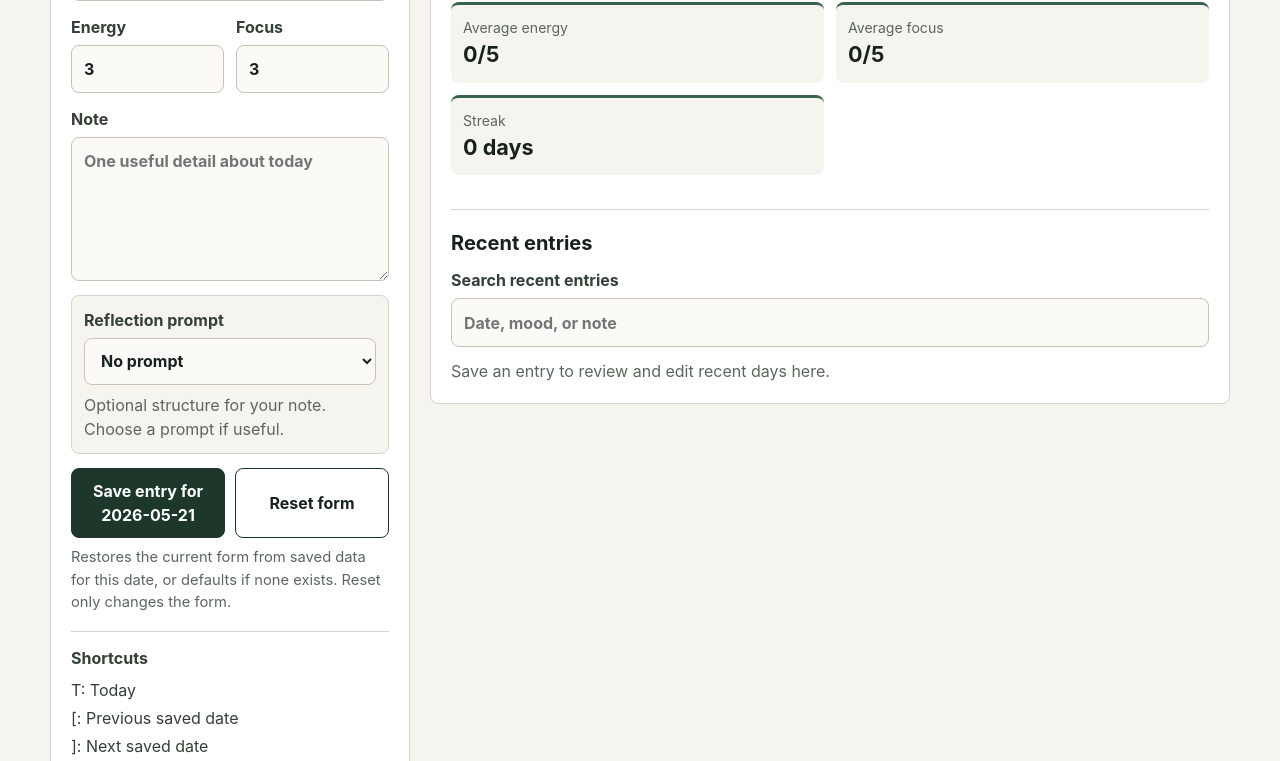
Test case: App › shows optional note prompts and displays the selected prompt text
The width and height of the screenshot is (1280, 761).
(page scrolled)
Expected: the text "Optional structure for your note. Choose a prompt if useful." is shown, [84,395,326,439]
Step 1. Select "Focus support" in the dropdown labelled "Reflection prompt" → point(230, 362), box [84,338,376,385]
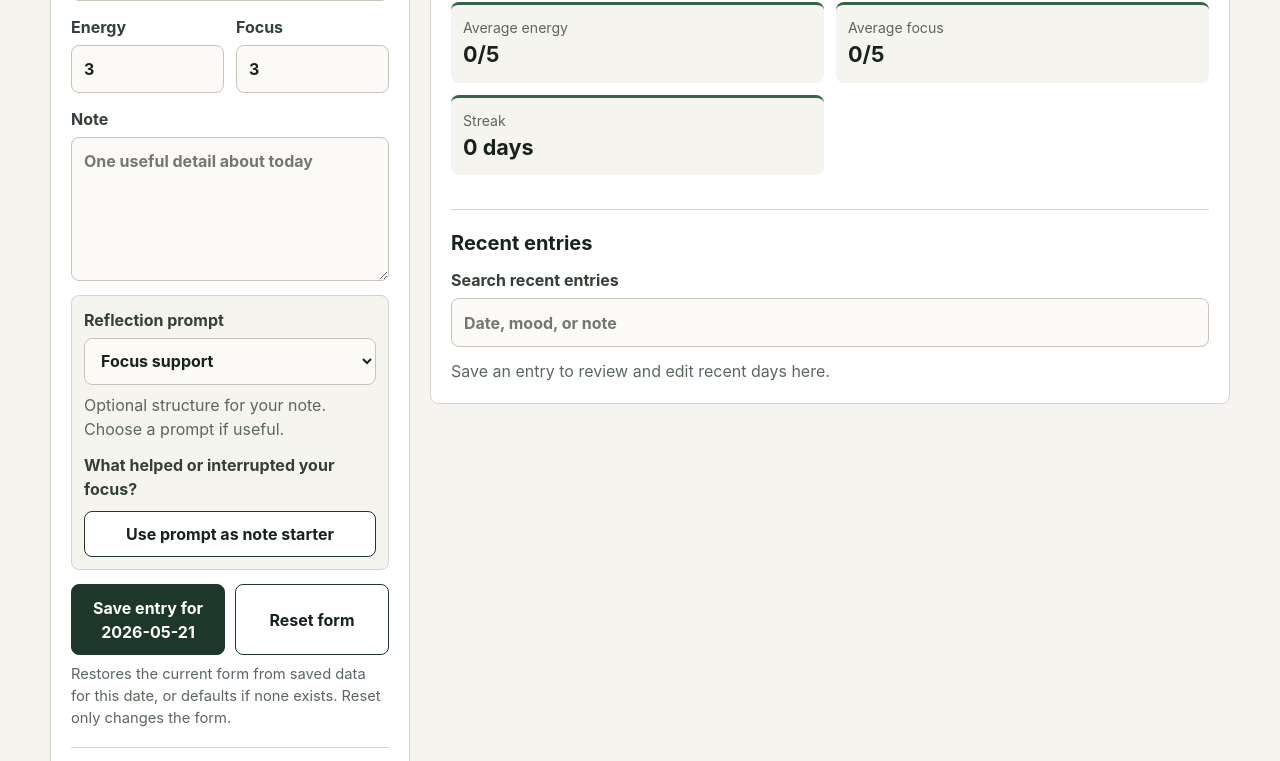
Now the text "What helped or interrupted your focus?" is shown, box [84,453,376,501]
Now the button "Use prompt as note starter" is shown, box [84,511,376,557]
